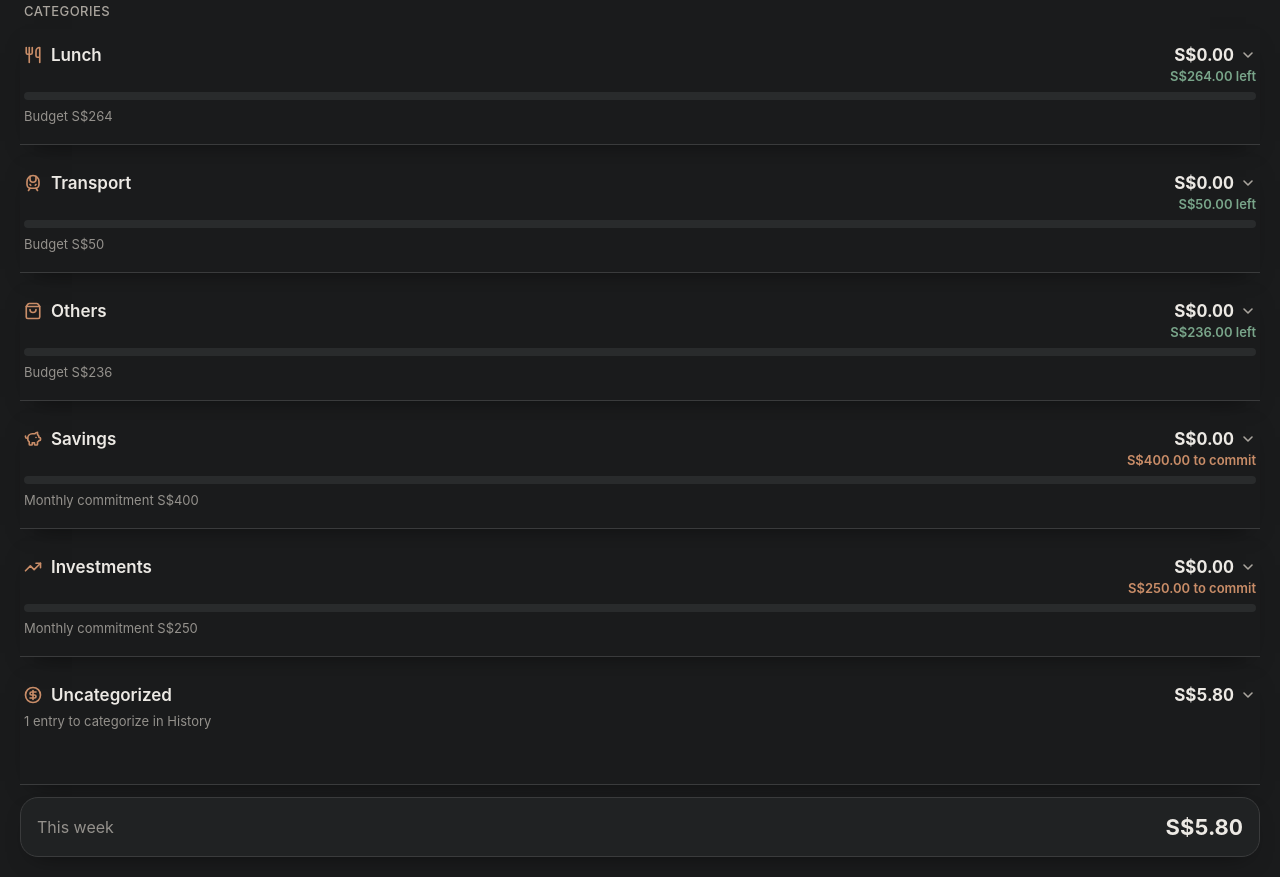
Dashboard category expense history › restores an uncategorised entry to the bucket when Undo is tapped on the triage toast
This screenshot has width=1280, height=877.
(page scrolled)
Click the button "Uncategorized S$5.80 1 entry to categorize in History" at (111,695), box [20,669,1260,783]
(page scrolled)
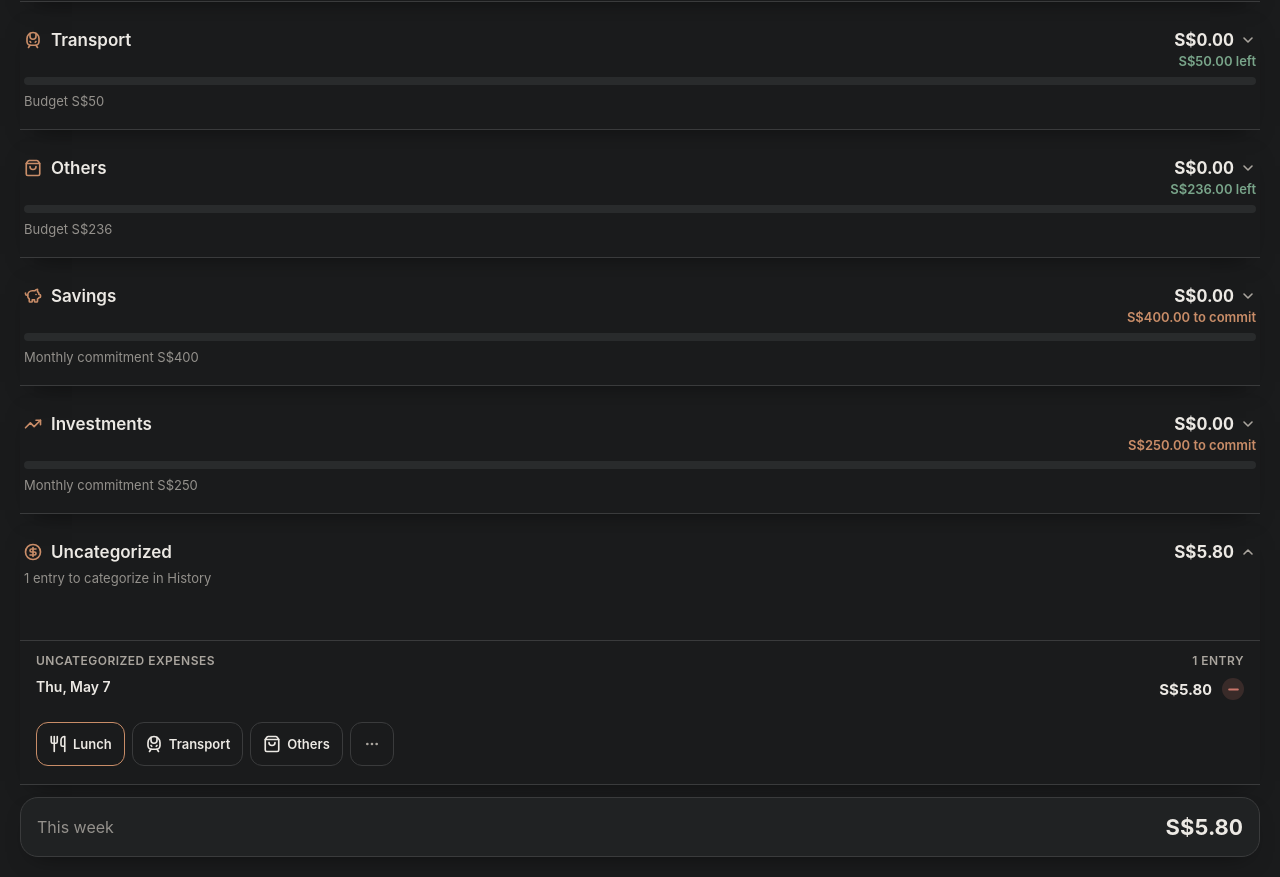
Click the button "Lunch" at (80,744), box [36,722,125,766]
(page scrolled)
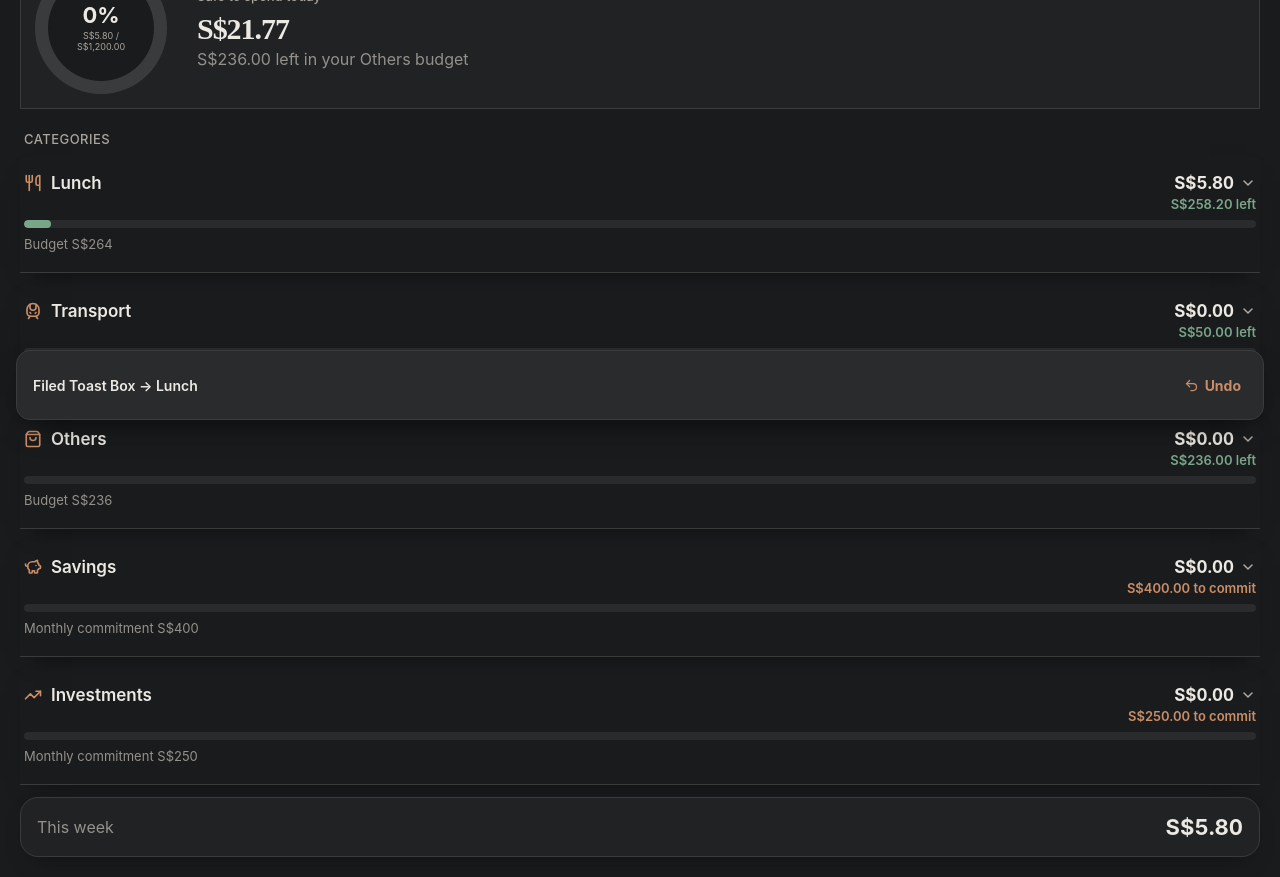
Check: the message "Filed Toast Box → Lunch Undo" is shown, box [16,350,1264,420]
Check: the button "Undo" is shown
Click the button "Undo" at (1212,385), box [1174,363,1251,407]
(page scrolled)
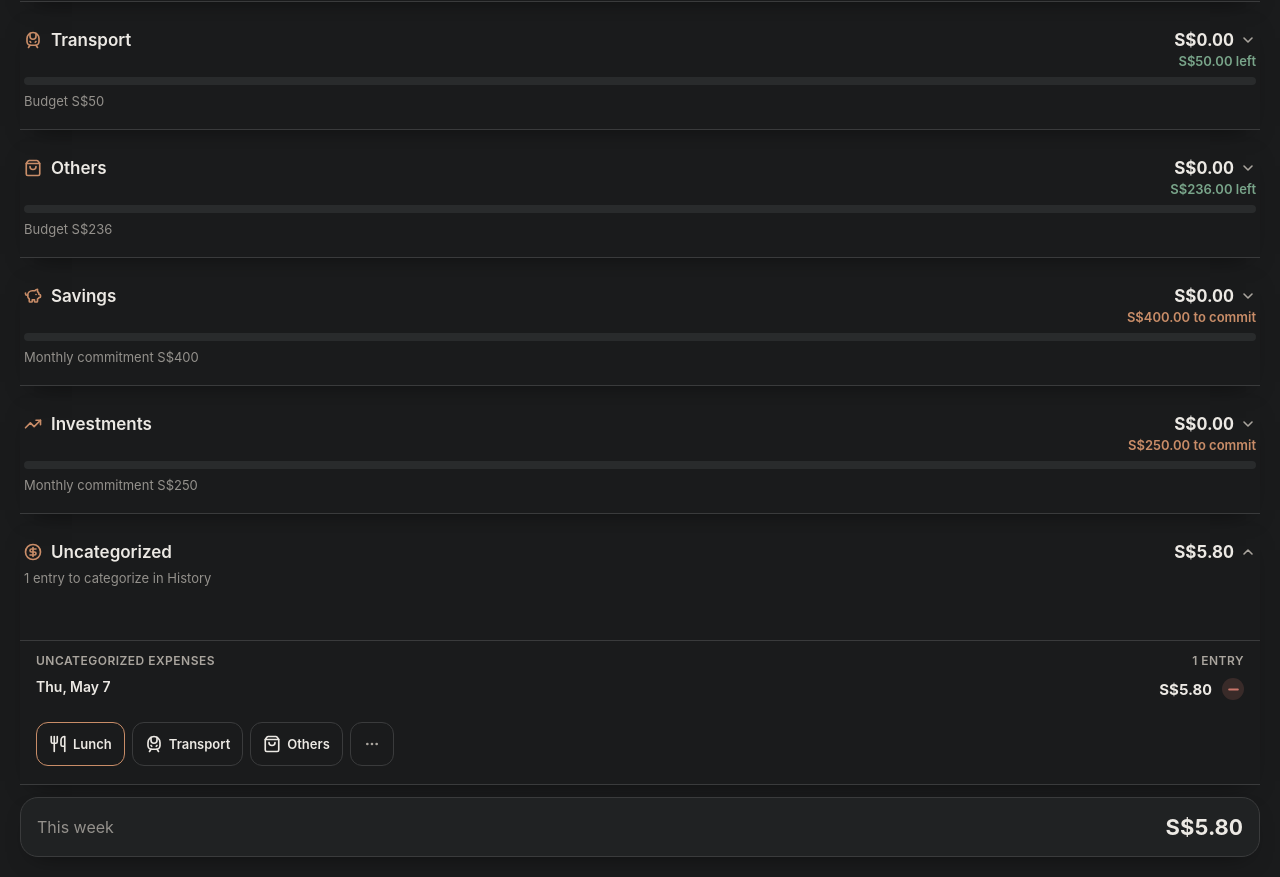
Check: the button "Lunch" is shown, box [36,722,125,766]
Check: the message with class "save-toast" is gone
